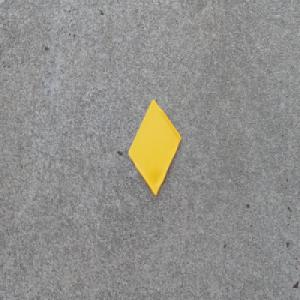PlasticPart: (127, 98, 182, 197)
